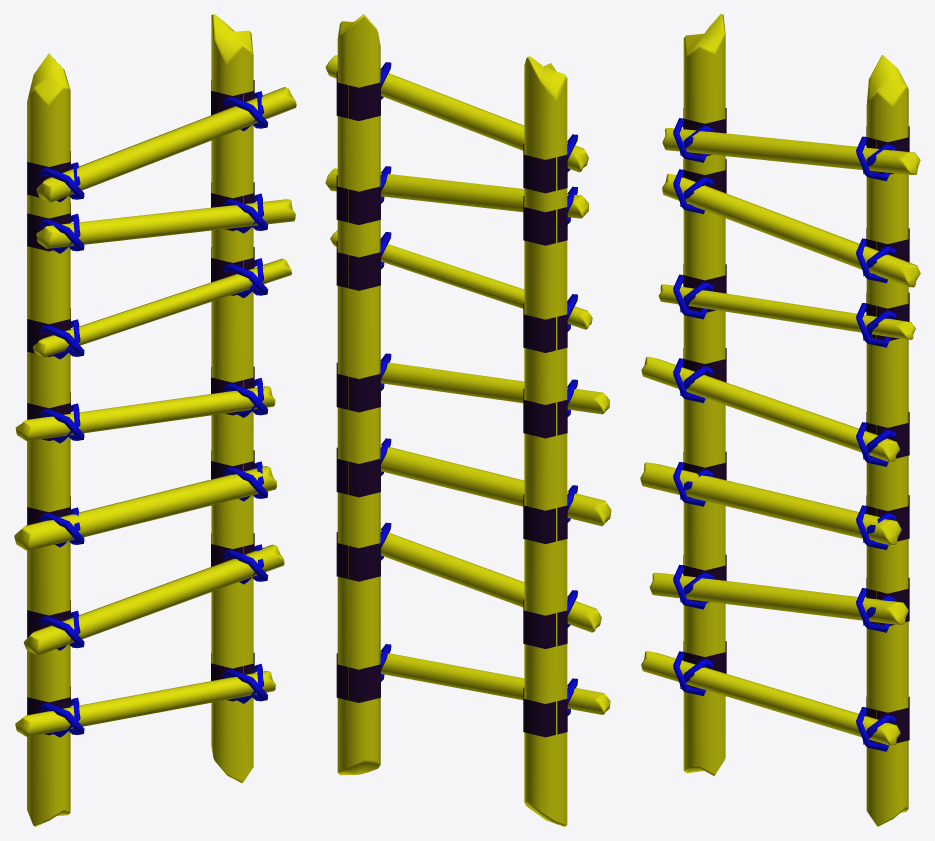
The model's file is prp_Ladder.fbx.
The picture shows the model from 3 angles, left to right: view 1: azimuth 30°, elevation 25°; view 2: azimuth 150°, elevation 25°; view 3: azimuth 330°, elevation 25°; orthographic projection. The views are drawn at different scales.
Visible parts, largest first — view 1: prp_Ladder; view 2: prp_Ladder; view 3: prp_Ladder.
Part boxes in pixels (box(x1,y1,x2,y2)): prp_Ladder: box(14, 14, 296, 826); prp_Ladder: box(325, 14, 611, 826); prp_Ladder: box(640, 14, 920, 826).
Size of the model in its own units: 1.14 by 0.2776 by 3.01.
